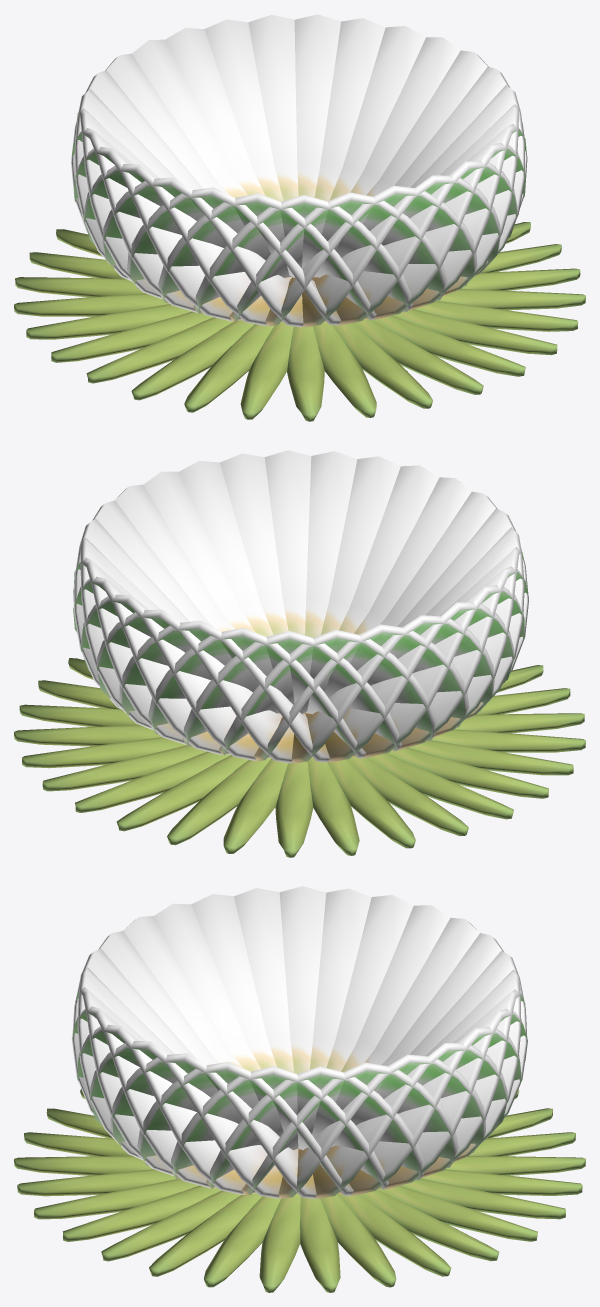
The model's file is flower lumi1.fbx.
The picture shows the model from 3 angles, top to bottom: view 1: azimuth 30°, elevation 25°; view 2: azimuth 150°, elevation 25°; view 3: azimuth 270°, elevation 25°; orthographic projection.
Parts seen in each view (by area): view 1: Circle; view 2: Circle; view 3: Circle.
Part boxes in pixels (x1,y1,x2,y2): Circle: (14, 14, 585, 421); Circle: (14, 450, 585, 857); Circle: (14, 886, 585, 1292).
Size of the model in its own units: 357 by 137 by 357.
